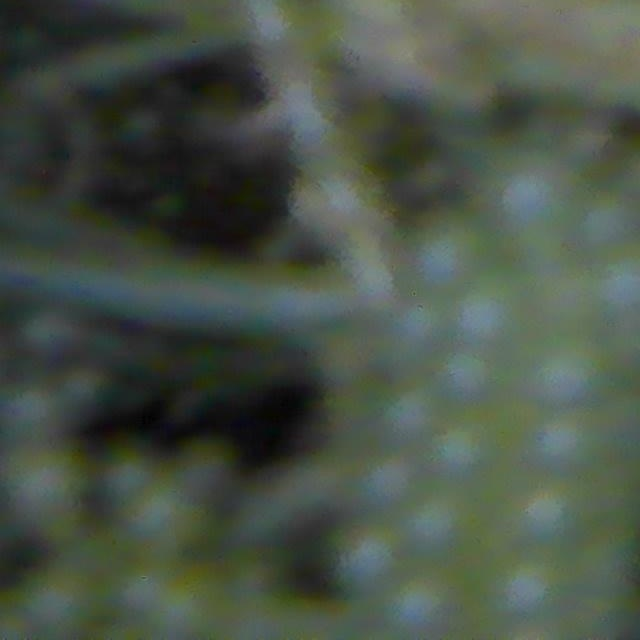SeaGrape: (3, 444, 86, 524), (529, 332, 608, 409), (506, 475, 584, 549), (454, 267, 522, 350), (399, 487, 470, 560), (497, 546, 564, 621), (384, 570, 458, 637), (526, 408, 599, 475), (498, 162, 567, 230), (376, 371, 434, 446), (325, 533, 396, 592), (434, 409, 488, 484), (354, 451, 416, 510), (388, 292, 438, 359), (436, 347, 494, 404), (414, 227, 470, 286), (580, 205, 634, 263)
